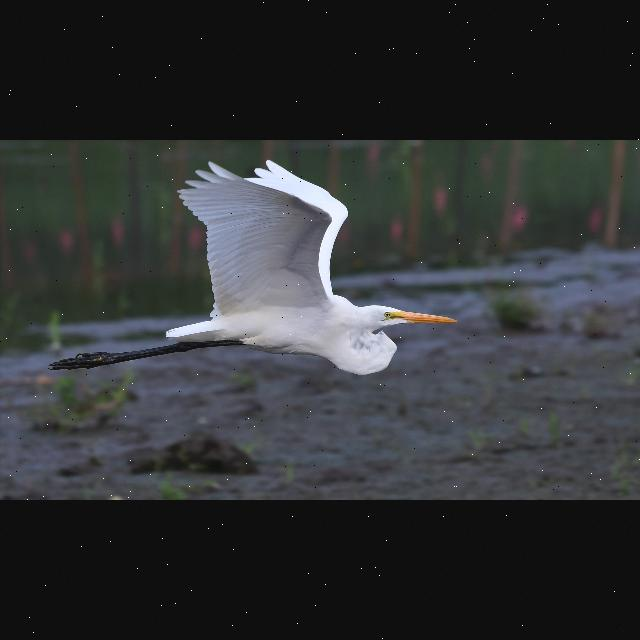egret: (40, 155, 464, 381)
